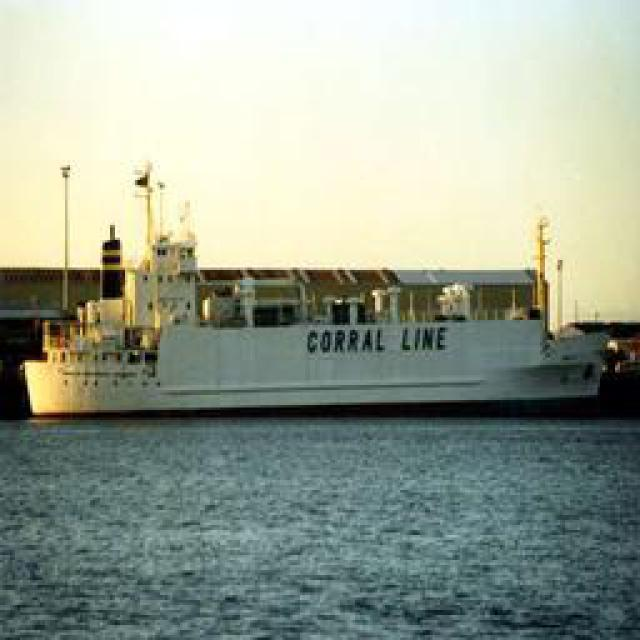Ship: (18, 209, 613, 424)
